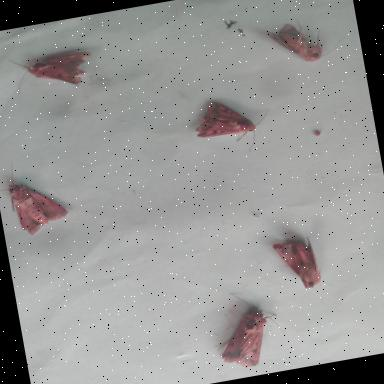abw: (203, 280, 295, 376), (184, 86, 282, 167), (0, 154, 75, 245), (0, 36, 99, 102), (254, 8, 352, 74), (267, 226, 330, 299)
